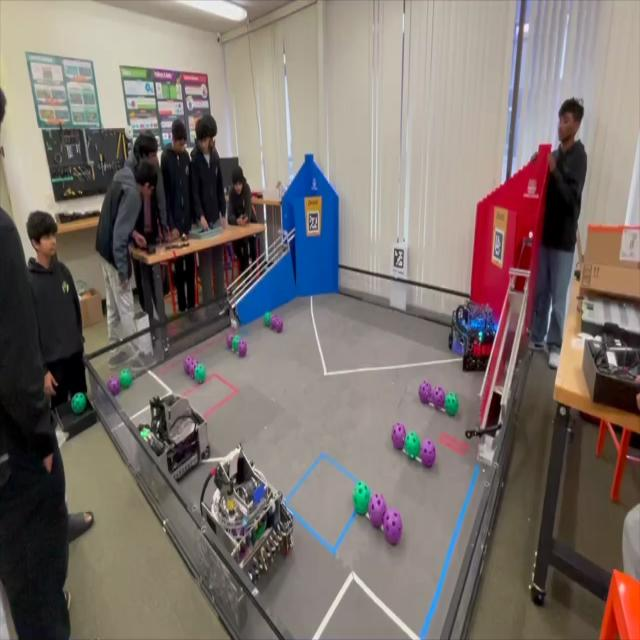artifact_green: (353, 481, 370, 514), (405, 432, 420, 458), (71, 393, 86, 415), (445, 392, 458, 415), (120, 368, 132, 389), (194, 363, 206, 383), (232, 336, 240, 352), (264, 312, 271, 327)
artifact_purple: (383, 509, 402, 545), (368, 494, 386, 527), (420, 439, 435, 467), (392, 423, 406, 450), (432, 386, 445, 408), (419, 381, 432, 403), (108, 376, 121, 395), (183, 356, 195, 375), (188, 360, 199, 379), (274, 316, 283, 333), (238, 340, 247, 357), (226, 334, 234, 350), (271, 314, 277, 330)
